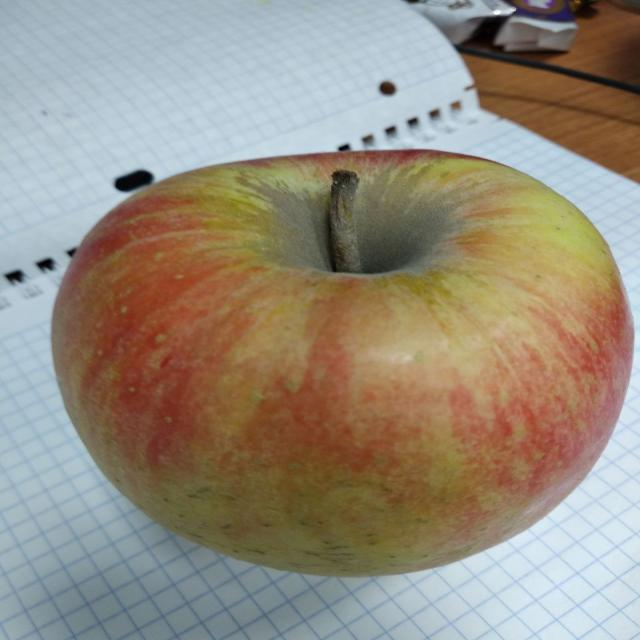Healty Apple: (52, 149, 632, 575)
